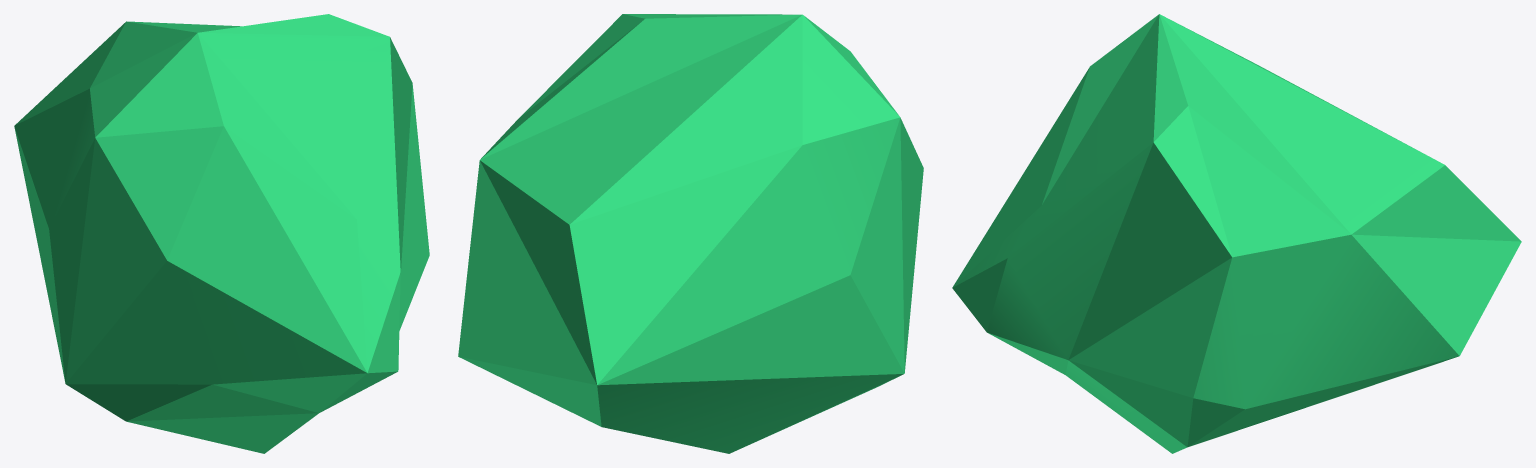
File: green-crystal.obj
3 views of the same model, side by side, from view 1: azimuth 30°, elevation 25°; view 2: azimuth 150°, elevation 25°; view 3: azimuth 270°, elevation 25° (orthographic). The views are drawn at different scales.
Parts seen in each view (by area): view 1: green-crystal; view 2: green-crystal; view 3: green-crystal.
Boxes of the visible parts, x1,y1,x2,y2 form: green-crystal: (14, 14, 429, 453); green-crystal: (458, 14, 923, 453); green-crystal: (952, 14, 1521, 453).
Size of the model in its own units: 0.2051 by 0.2332 by 0.2959.
1 material, 1 textured.
